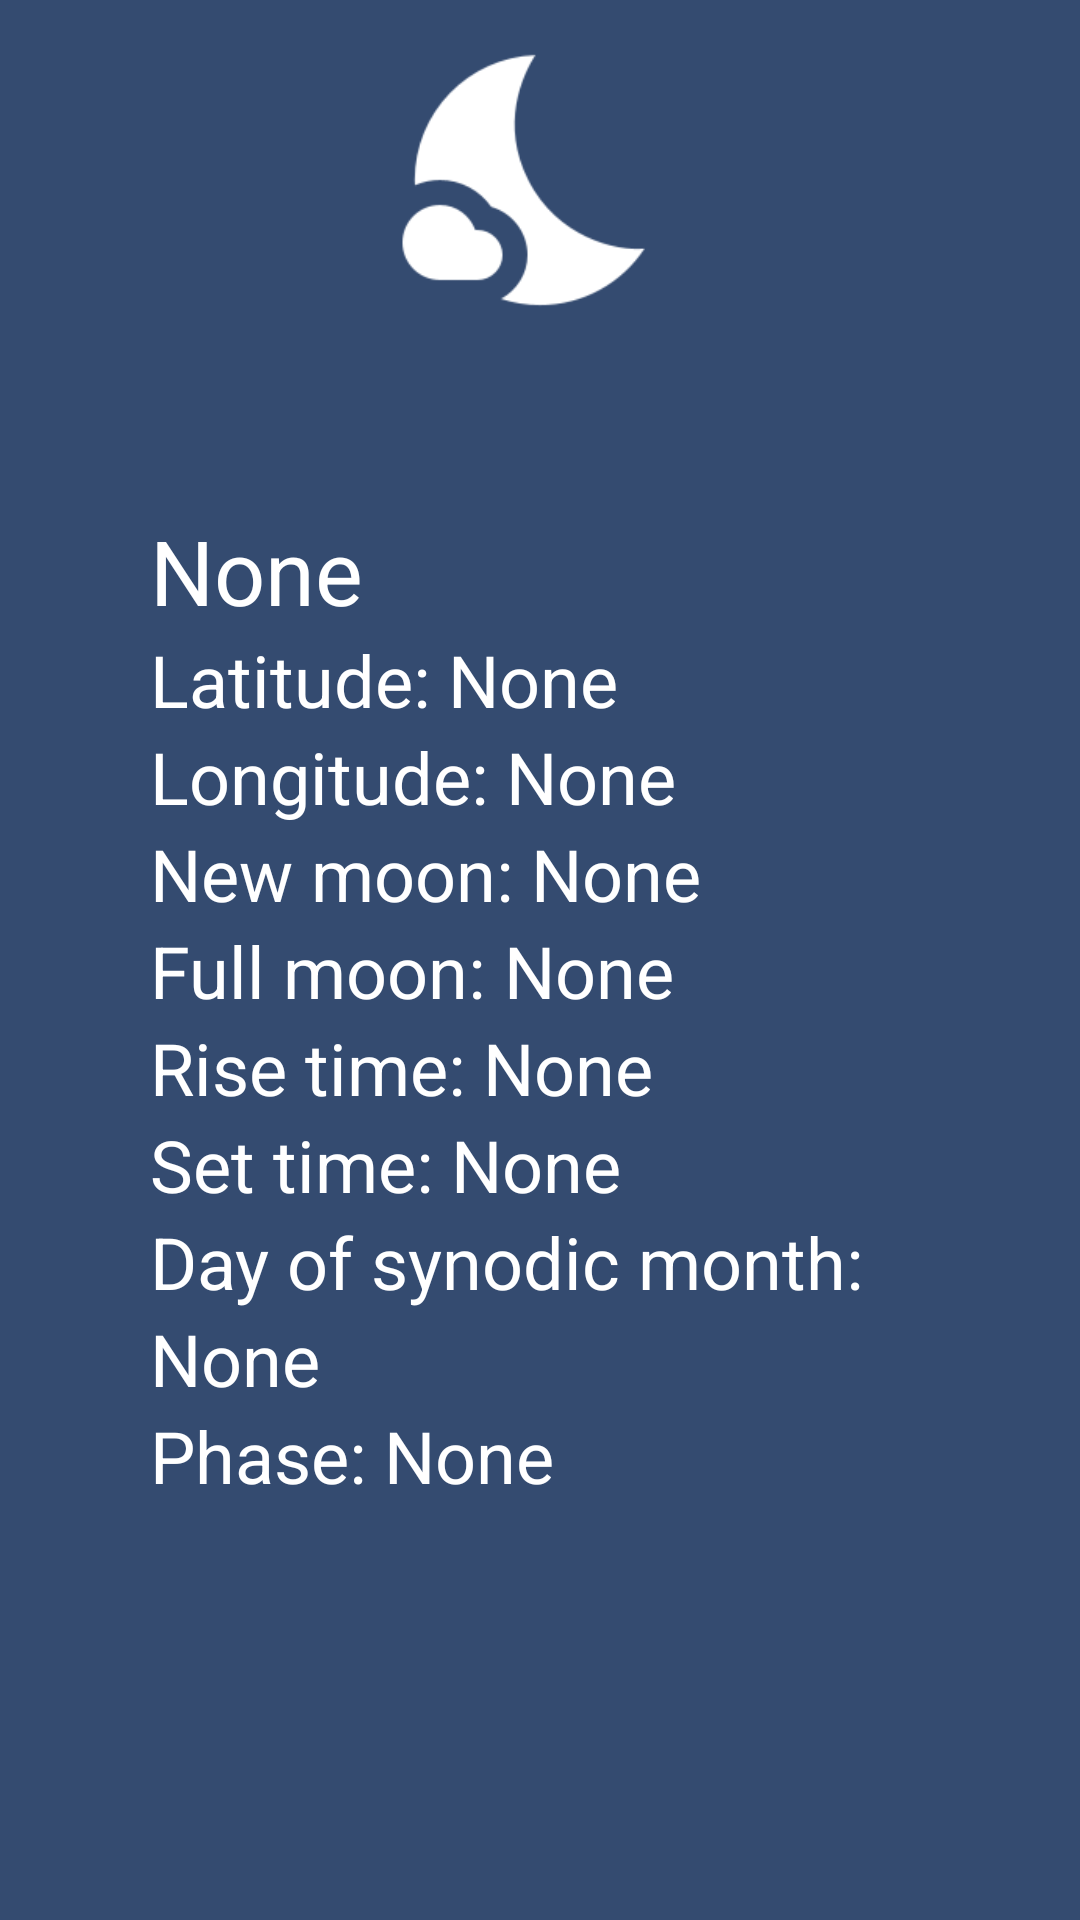

Icons on this 1080px×1920px Android screen, each with the point to tap as point (x, y):
Moon: point (523, 180)
